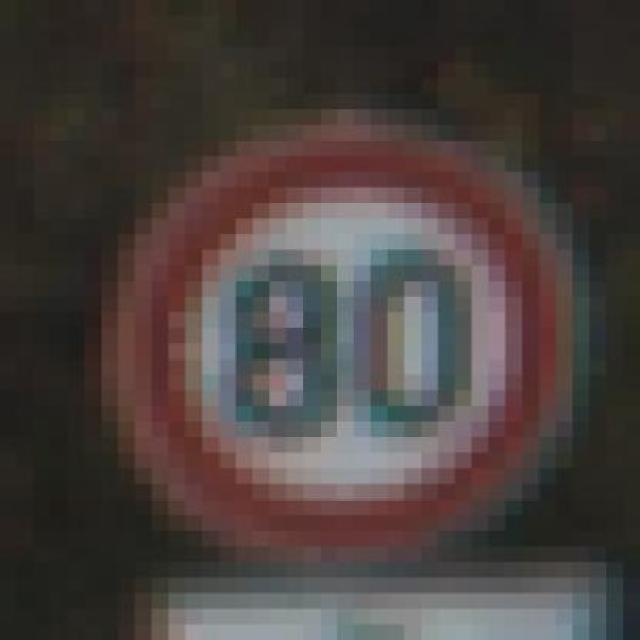forb_speed_over_80: (128, 138, 570, 556)
